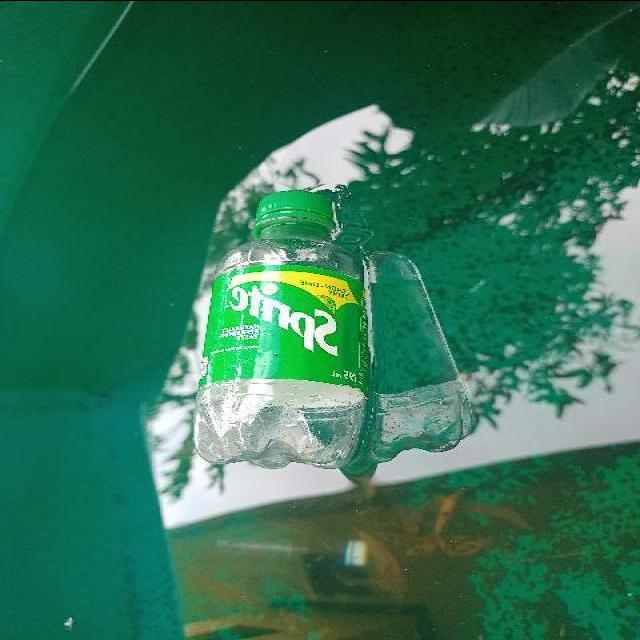Bottle: (188, 192, 382, 473)
